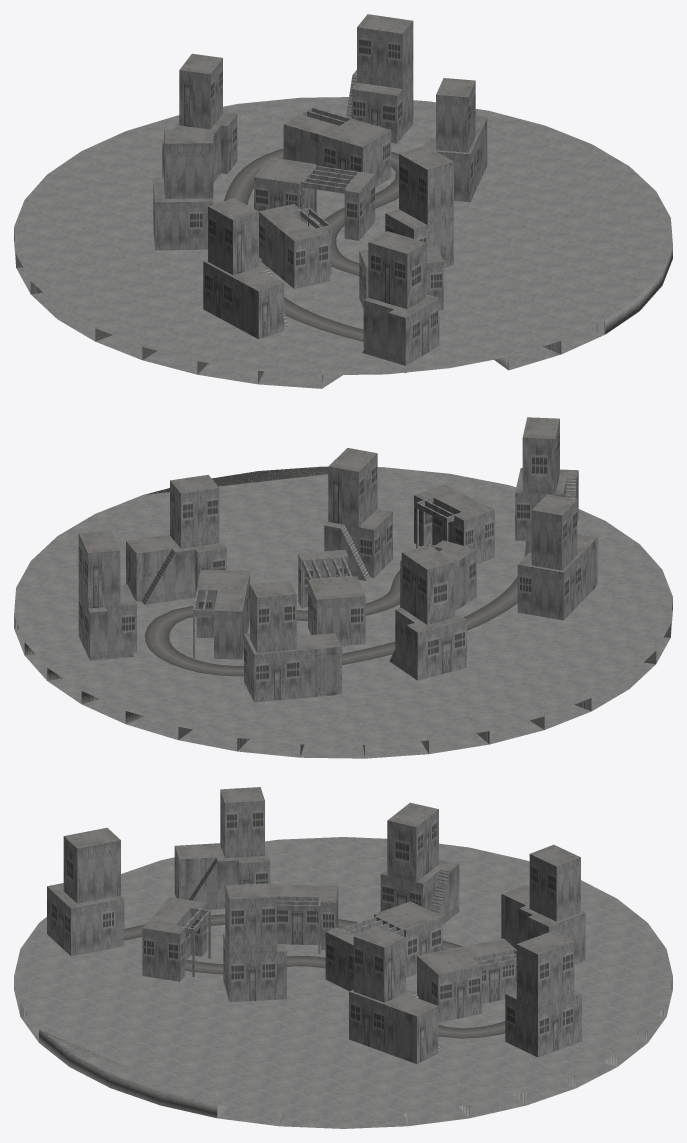
Rendered from dankomapa3.glb.
The picture shows the model from 3 angles, top to bottom: view 1: azimuth 30°, elevation 25°; view 2: azimuth 150°, elevation 25°; view 3: azimuth 270°, elevation 25°; orthographic projection.
Visible parts, largest first — view 1: ground, Building_4.001, Building_6.002, Building_2, Building_4, Building_1, Building_3, Building_2.001, Building_5, Building_6.001, Building_6, Road (+1 smaller); view 2: ground, Building_6, Building_6.001, Building_4, Building_6.002, Building_2.001, Building_2, Building_3, Road, Building_4.001, Building_5.001, Building_1 (+1 smaller); view 3: ground, Building_6.001, Building_4.001, Building_2, Building_6.002, Building_2.001, Building_4, Building_6, Building_1, Building_3, Building_5.001, Building_5 (+1 smaller).
Boxes of the visible parts, x1,y1,x2,y2 form: ground: [14, 97, 672, 388]; Building_4.001: [362, 231, 439, 372]; Building_6.002: [203, 198, 289, 339]; Building_2: [346, 14, 413, 143]; Building_4: [153, 129, 213, 250]; Building_1: [283, 107, 391, 187]; Building_3: [254, 157, 375, 240]; Building_2.001: [385, 145, 453, 267]; Building_5: [259, 204, 331, 288]; Building_6.001: [424, 78, 487, 202]; Building_6: [162, 53, 237, 182]; Road: [224, 149, 398, 341]; ground: [14, 466, 672, 758]; Building_6: [244, 580, 341, 702]; Building_6.001: [126, 474, 226, 604]; Building_4: [389, 545, 466, 680]; Building_6.002: [517, 494, 597, 620]; Building_2.001: [324, 448, 392, 580]; Building_2: [78, 530, 136, 660]; Building_3: [298, 549, 365, 645]; Road: [145, 541, 531, 676]; Building_4.001: [515, 417, 578, 540]; Building_5.001: [414, 484, 494, 563]; Building_1: [193, 569, 249, 659]; ground: [14, 837, 672, 1128]; Building_6.001: [349, 926, 440, 1063]; Building_4.001: [47, 827, 124, 956]; Building_2: [505, 931, 581, 1057]; Building_6.002: [174, 787, 270, 909]; Building_2.001: [223, 883, 286, 1001]; Building_4: [380, 802, 459, 924]; Building_6: [501, 844, 585, 964]; Building_1: [417, 938, 516, 1022]; Building_3: [325, 901, 442, 991]; Building_5.001: [142, 897, 210, 981]; Building_5: [273, 884, 338, 953].
Size of the model in its own units: 115 by 22.52 by 115.
Materials: 3 (3 with a texture image).
